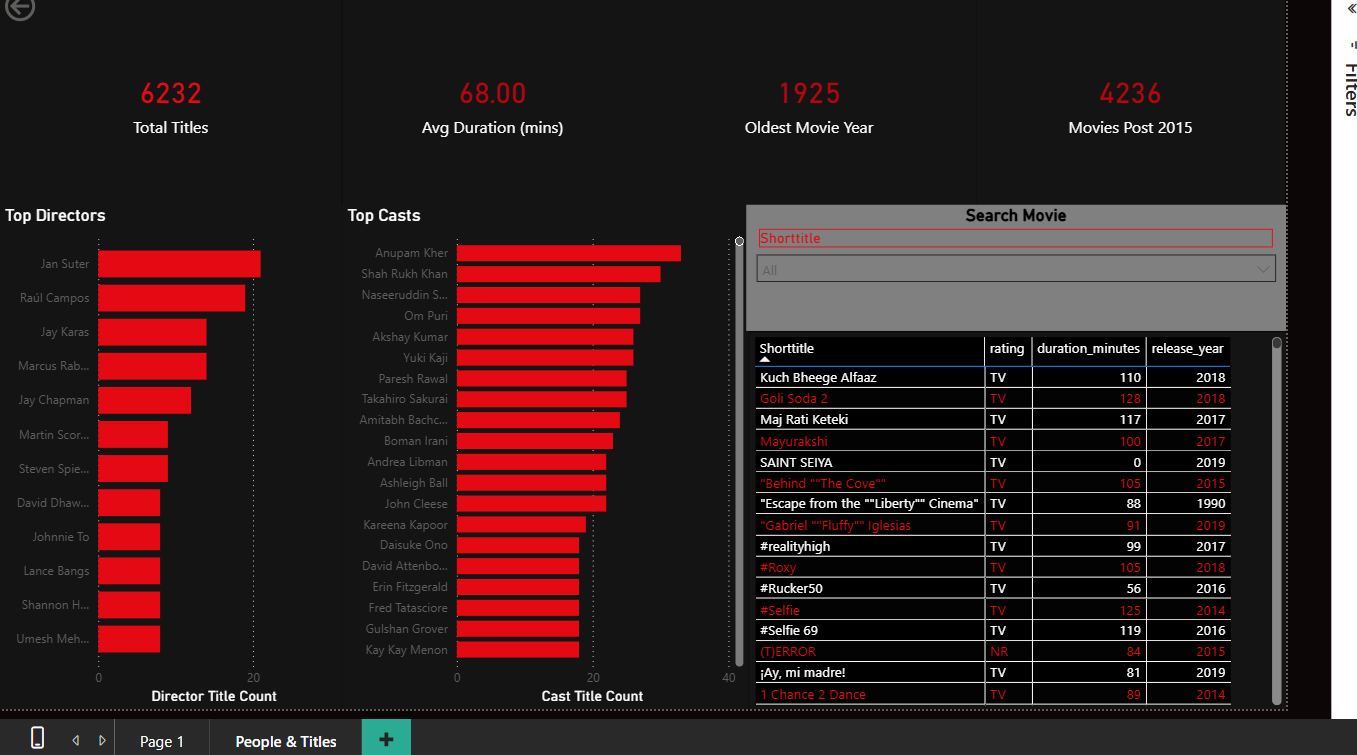

The dashboard page shown, as its layout file describes it:
{"tool":"powerbi","page":{"name":"People & Titles","canvas":[1280,720],"ordinal":1},"visuals":[{"type":"card","fields":{"Values":["gold_netflixtitles.Total Titles"]},"box":[0,12.3,340.3,205.8],"z":0},{"type":"card","fields":{"Values":["gold_netflixtitles.Oldest Movie Year"]},"box":[639.5,12.3,332.1,205.8],"z":1000},{"type":"card","fields":{"Values":["gold_netflixtitles.Movies Post 2015"]},"box":[971.5,12.3,307.4,205.8],"z":2000},{"type":"card","fields":{"Values":["gold_netflixtitles.Avg Duration (mins)"]},"box":[340.3,12.3,299.1,205.8],"z":3000},{"type":"clusteredBarChart","title":"Top Directors","fields":{"Category":["gold_netflixdirectors.director"],"Y":["gold_netflixdirectors.Director Title Count"]},"box":[0,217.7,340.8,502.6],"z":4000},{"type":"clusteredBarChart","title":"Top Casts","fields":{"Category":["gold_netflixcast.cast"],"Y":["gold_netflixcast.Cast Title Count"]},"box":[340.8,217.7,404.3,502.6],"z":5000},{"type":"actionButton","box":[0,0,100,40],"z":6000},{"type":"slicer","title":"Search Movie","fields":{"Values":["gold_netflixtitles.Shorttitle"]},"box":[742.6,217.7,537.4,125.6],"z":7000},{"type":"tableEx","fields":{"Values":["gold_netflixtitles.Shorttitle","gold_netflixtitles.rating","gold_netflixtitles.duration_minutes","gold_netflixtitles.release_year"]},"box":[745,344,535,376],"z":8000}]}

Visuals, with their boxes on the page's 1280x720 design canvas (x1, y1, x2, y2). These are canvas units, not pixel positions in the 1357x755 screenshot, which may show the page scaled, cropped or inside an application window:
card - gold_netflixtitles.Total Titles: box=[0, 12, 340, 218]
card - gold_netflixtitles.Oldest Movie Year: box=[640, 12, 972, 218]
card - gold_netflixtitles.Movies Post 2015: box=[972, 12, 1279, 218]
card - gold_netflixtitles.Avg Duration (mins): box=[340, 12, 639, 218]
"Top Directors" clusteredBarChart: box=[0, 218, 341, 720]
"Top Casts" clusteredBarChart: box=[341, 218, 745, 720]
actionButton: box=[0, 0, 100, 40]
"Search Movie" slicer: box=[743, 218, 1280, 343]
tableEx - gold_netflixtitles.Shorttitle x gold_netflixtitles.rating: box=[745, 344, 1280, 720]
